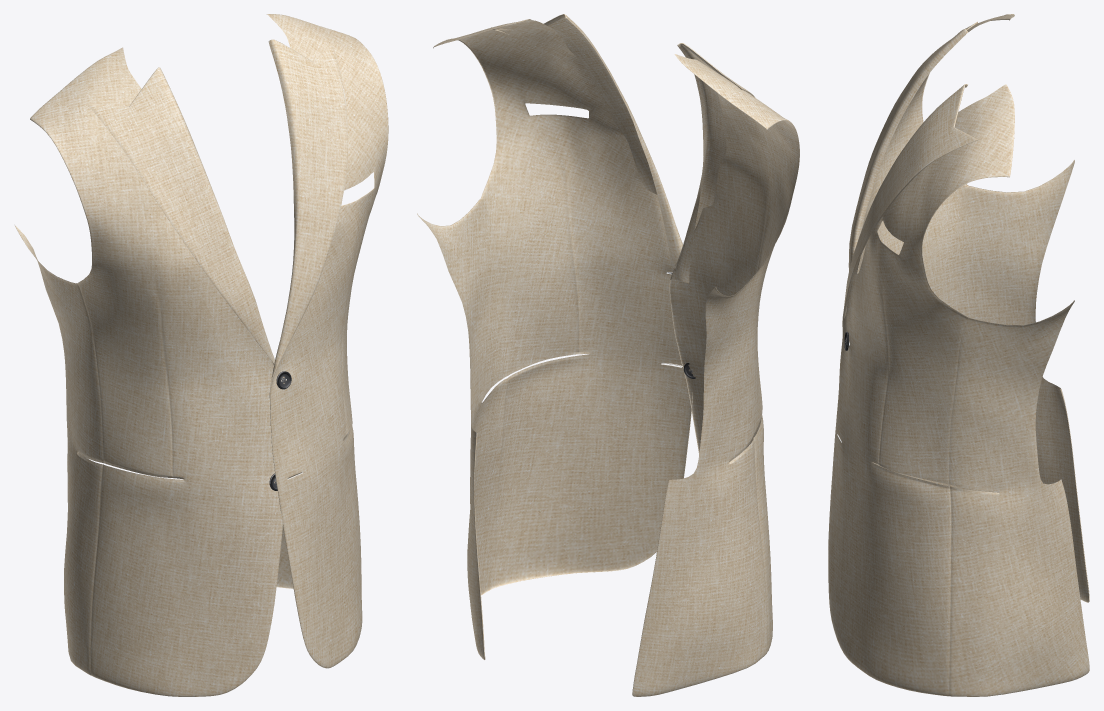
The model's file is doublebuttonpeak.glb.
3 renders of one model, left to right at view 1: azimuth 30°, elevation 25°; view 2: azimuth 150°, elevation 25°; view 3: azimuth 270°, elevation 25°, orthographic. The views are drawn at different scales.
Visible parts, largest first — view 1: Peak_Double_Button; view 2: Peak_Double_Button; view 3: Peak_Double_Button.
Part boxes in pixels (x1,y1,x2,y2): Peak_Double_Button: (15, 14, 388, 696); Peak_Double_Button: (417, 14, 799, 696); Peak_Double_Button: (828, 14, 1089, 696).
Size of the model in its own units: 0.0585 by 0.1024 by 0.0411.
4 materials, 3 textured.
